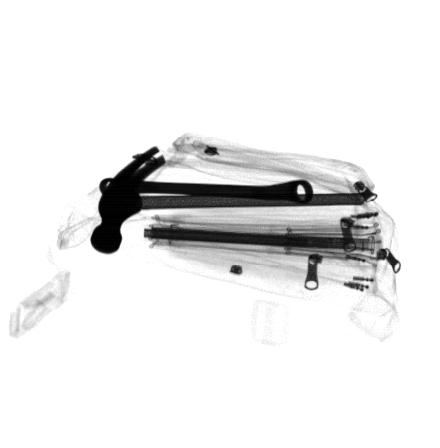Hammer: (89, 144, 365, 253)
Wrench: (97, 176, 314, 207)
